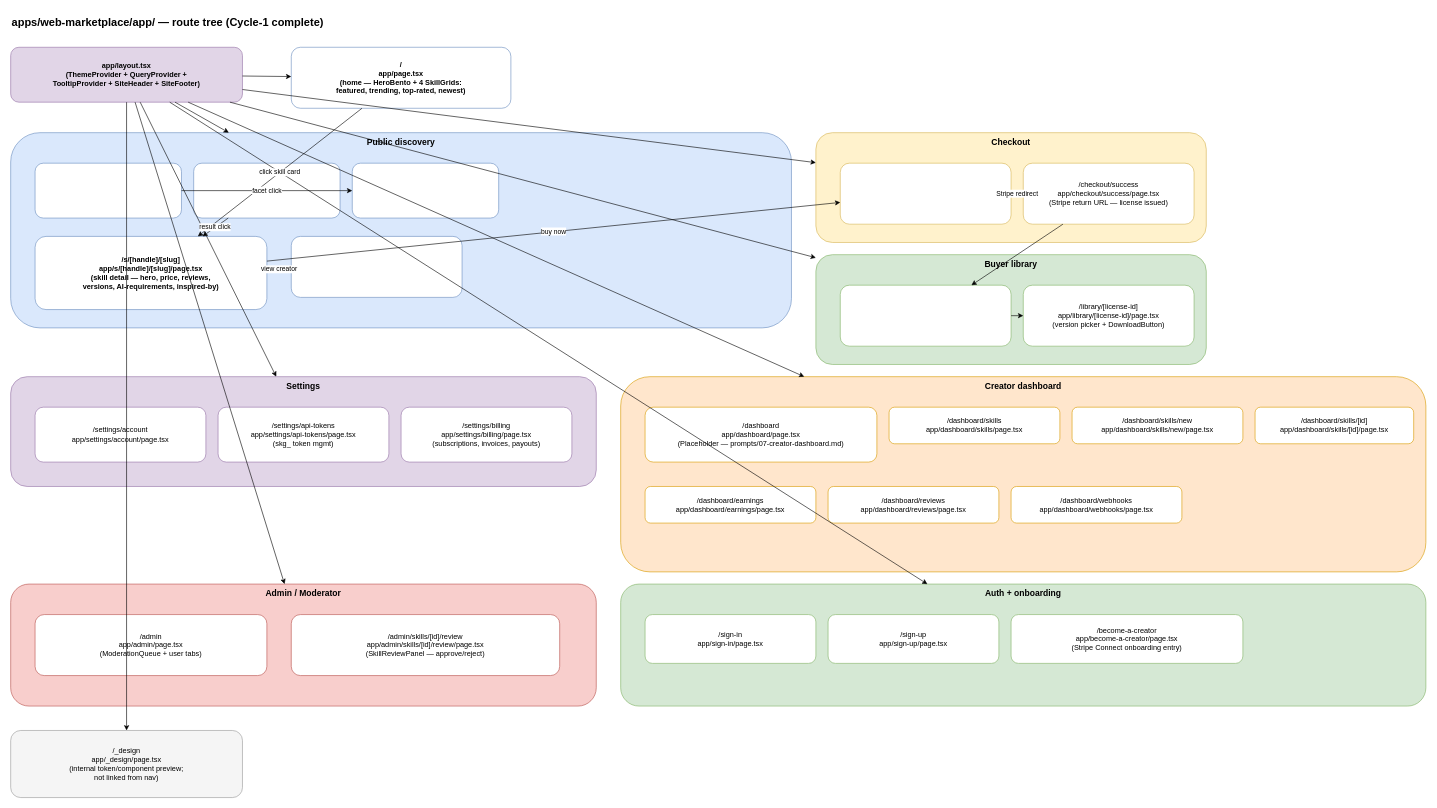
Image size: 1437x808. Some labels were removed from this diagram. The centre of each missing label's shape, as x and y in pixels:
"/browse app/browse/page.tsx (full catalog grid + FilterSidebar)" belongs at (x=107, y=190).
"/c/[slug] app/c/[slug]/page.tsx (category landing)" belongs at (x=425, y=190).
"/checkout app/checkout/page.tsx (cart summary → Stripe redirect)" belongs at (x=925, y=193).
"/library app/library/page.tsx (LicenseCard list + filter pills)" belongs at (x=925, y=315).
"/search app/search/page.tsx (query-string driven results)" belongs at (x=266, y=190).
"/u/[handle] app/u/[handle]/page.tsx (creator profile + skill grid)" belongs at (x=376, y=266).
